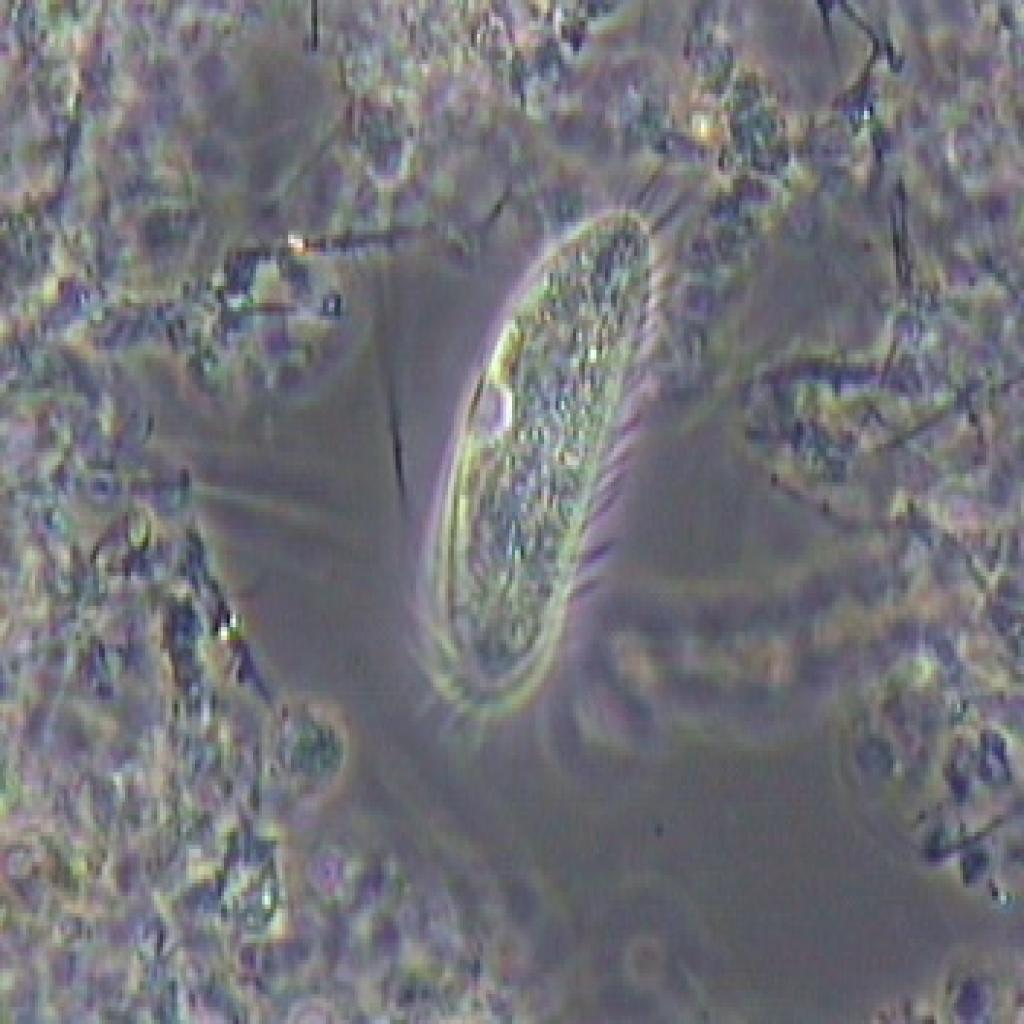Stylonychia: (382, 166, 702, 760)
